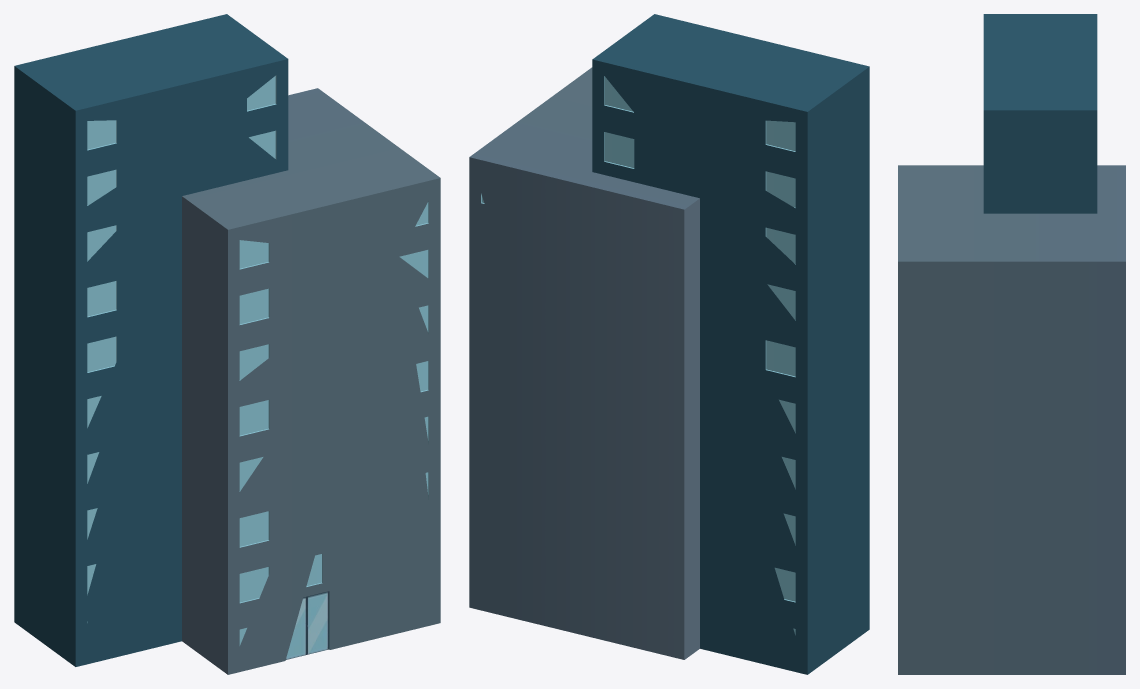
Rendered from office.fbx.
3 views of the same model, side by side, from view 1: azimuth 30°, elevation 25°; view 2: azimuth 150°, elevation 25°; view 3: azimuth 270°, elevation 25° (orthographic). The views are drawn at different scales.
Visible parts, largest first — view 1: Cube.001; view 2: Cube.001; view 3: Cube.001.
Boxes of the visible parts, x1,y1,x2,y2 form: Cube.001: (14,14,440,674); Cube.001: (469,14,869,674); Cube.001: (898,14,1125,674).
Size of the model in its own units: 1200 by 800 by 2000.
1 material, 1 textured.
